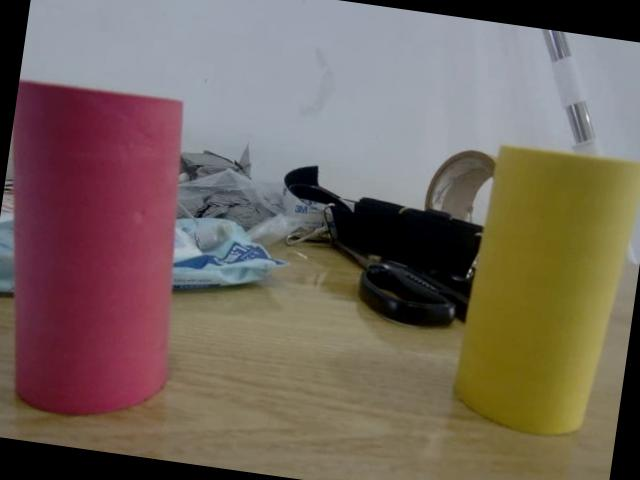red_cylinder: (0, 78, 222, 423)
yellow_cylinder: (450, 135, 640, 452)
